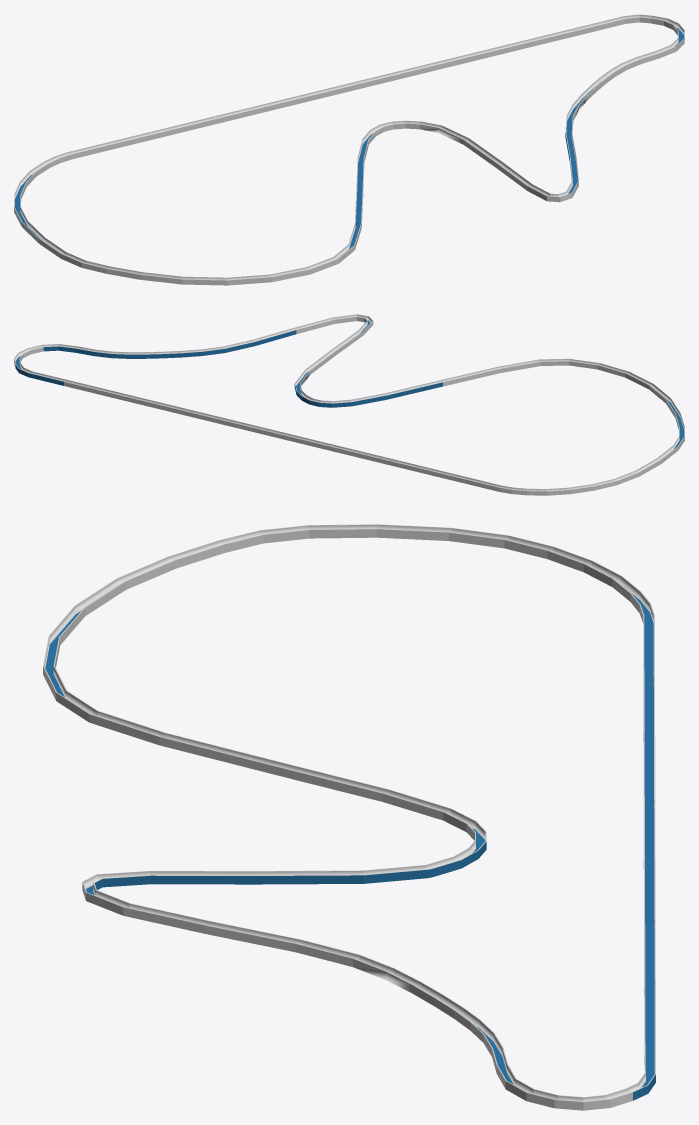
File: Fujiyama-100x.fbx
The picture shows the model from 3 angles, top to bottom: view 1: azimuth 30°, elevation 25°; view 2: azimuth 150°, elevation 25°; view 3: azimuth 270°, elevation 25°; orthographic projection. The views are drawn at different scales.
Visible parts, largest first — view 1: path879; view 2: path879; view 3: path879.
Boxes of the visible parts, x1,y1,x2,y2 form: path879: (14, 14, 684, 285); path879: (14, 314, 684, 495); path879: (43, 524, 655, 1110).
Bounding box in the file's own units: 585 × 4 × 262.
